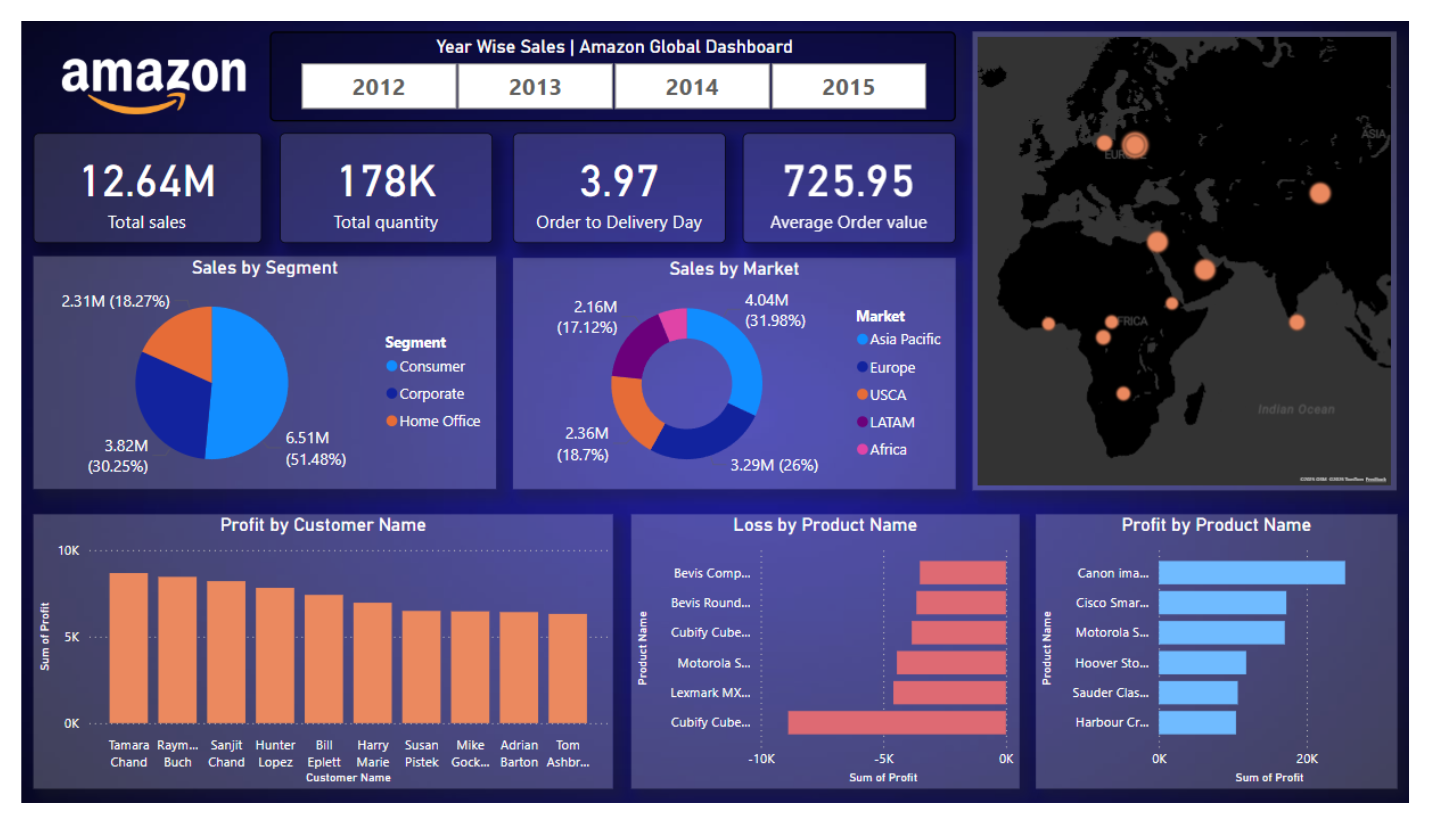

Layout of this report page (visuals, bound fields, positions):
{"tool":"powerbi","page":{"name":"Page 1","canvas":[1280,720],"ordinal":0},"visuals":[{"type":"slicer","title":"Year Wise Sales | Amazon Global Dashboard ","fields":{"Values":["Query1.Year"]},"box":[229.6,10.7,630.5,82.6],"z":0},{"type":"card","fields":{"Values":["Query1.Total sales"]},"box":[12.2,104.1,209.7,101],"z":1000},{"type":"pieChart","title":"Sales by Segment","fields":{"Y":["Query1.Sales"],"Category":["Query1.Segment"]},"box":[9.2,217.3,425.5,214.3],"z":2000},{"type":"donutChart","fields":{"Y":["Query1.Sales"],"Category":["Query1.Market"]},"box":[453,218.9,407.1,212.7],"z":3000},{"type":"columnChart","fields":{"Category":["Query1.Customer Name"],"Y":["Query1.Profit"]},"box":[9.2,454.5,535.7,252.5],"z":4000},{"type":"barChart","fields":{"Y":["Query1.Profit"],"Category":["Query1.Product Name"]},"box":[561.7,454.5,356.6,252.5],"z":5000},{"type":"barChart","fields":{"Category":["Query1.Product Name"],"Y":["Query1.Profit"]},"box":[933.6,454.5,332.1,252.5],"z":6000},{"type":"azureMap","fields":{"Size":["Query1.Sales"],"Category":["Query1.Region"]},"box":[876.9,10.7,388.7,420.9],"z":7000},{"type":"card","fields":{"Values":["Query1.Total quantity"]},"box":[238.7,104.1,195.9,101],"z":8000},{"type":"card","fields":{"Values":["Query1.ord_to_deli"]},"box":[453,104.1,195.9,101],"z":9000},{"type":"card","fields":{"Values":["Query1.AOV"]},"box":[664.2,104.1,195.9,101],"z":10000},{"type":"image","box":[9.2,30.6,229.6,71.9],"z":11000}]}

Visuals, with their boxes in screenshot pixels (x1, y1, x2, y2), scaled from the page's 1280x720 canvas onto the 1430x824 screenshot:
"Year Wise Sales | Amazon Global Dashboard " slicer: l=257, t=12, r=961, b=107
card - Query1.Total sales: l=14, t=119, r=248, b=235
"Sales by Segment" pieChart: l=10, t=249, r=486, b=494
donutChart - Query1.Sales x Query1.Market: l=506, t=251, r=961, b=494
columnChart - Query1.Customer Name x Query1.Profit: l=10, t=520, r=609, b=809
barChart - Query1.Profit x Query1.Product Name: l=628, t=520, r=1026, b=809
barChart - Query1.Product Name x Query1.Profit: l=1043, t=520, r=1414, b=809
azureMap - Query1.Sales x Query1.Region: l=980, t=12, r=1414, b=494
card - Query1.Total quantity: l=267, t=119, r=486, b=235
card - Query1.ord_to_deli: l=506, t=119, r=725, b=235
card - Query1.AOV: l=742, t=119, r=961, b=235
image: l=10, t=35, r=267, b=117
